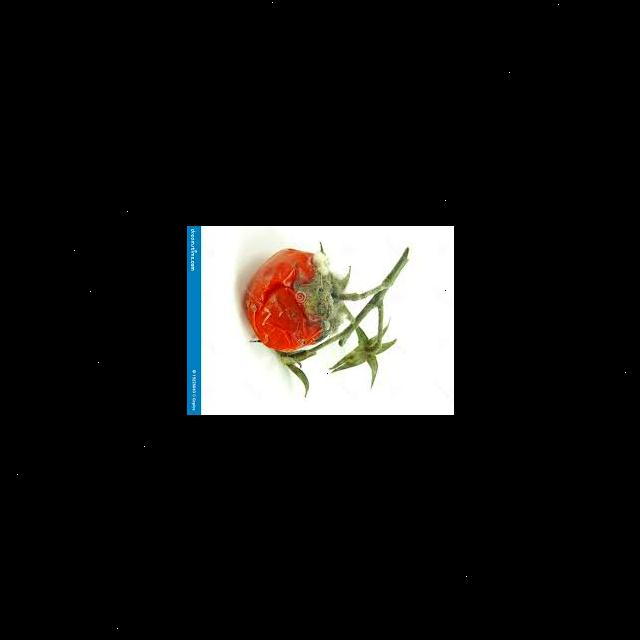tomato: (248, 248, 344, 358)
